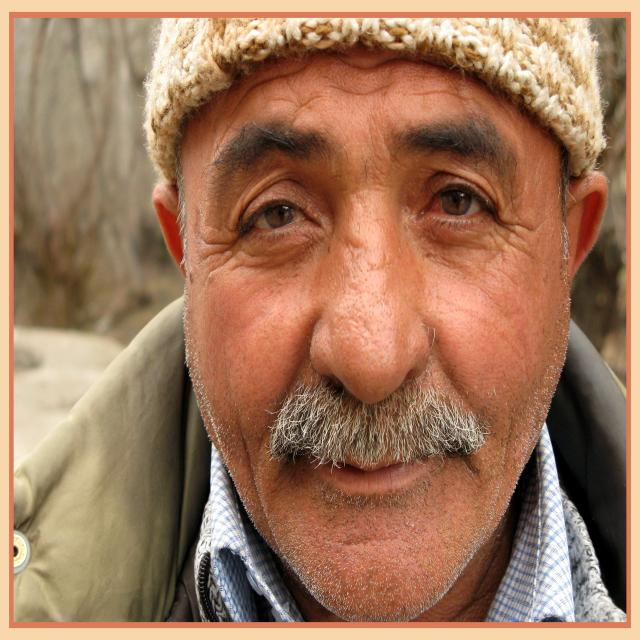no-glass: (225, 178, 502, 256)
